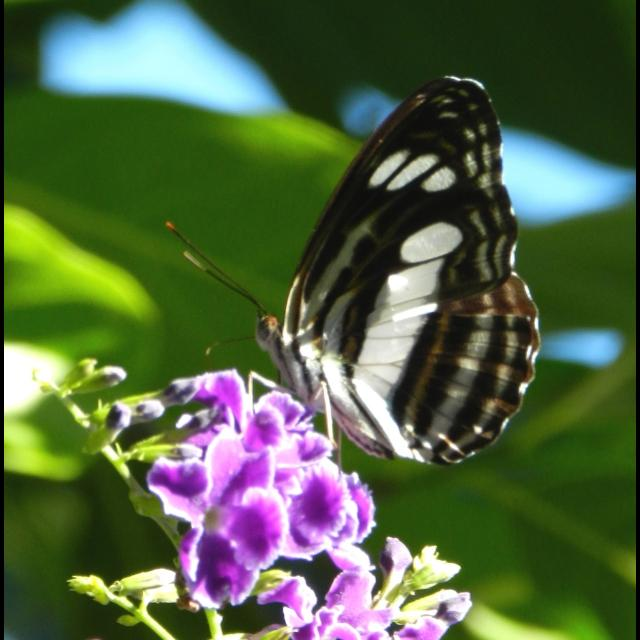Flower: (150, 378, 374, 600), (279, 550, 469, 640)
